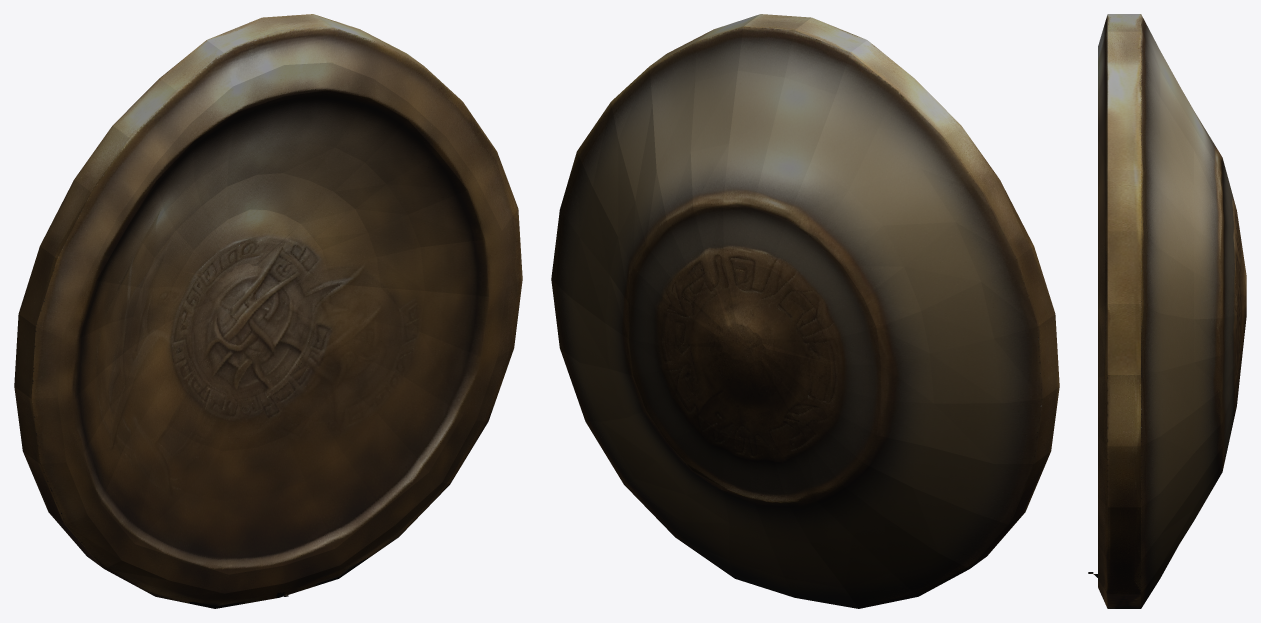
3 views of the same model, side by side, from view 1: azimuth 30°, elevation 25°; view 2: azimuth 150°, elevation 25°; view 3: azimuth 270°, elevation 25° (orthographic). The views are drawn at different scales.
Parts seen in each view (by area): view 1: textured.obj; view 2: textured.obj; view 3: textured.obj.
Part boxes in pixels (bbox=[...]): textured.obj: bbox=[14, 14, 522, 608]; textured.obj: bbox=[551, 14, 1059, 608]; textured.obj: bbox=[1088, 14, 1246, 608].
Size of the model in its own units: 1.81 by 2 by 0.5197.
Materials: 1 (1 with a texture image).
